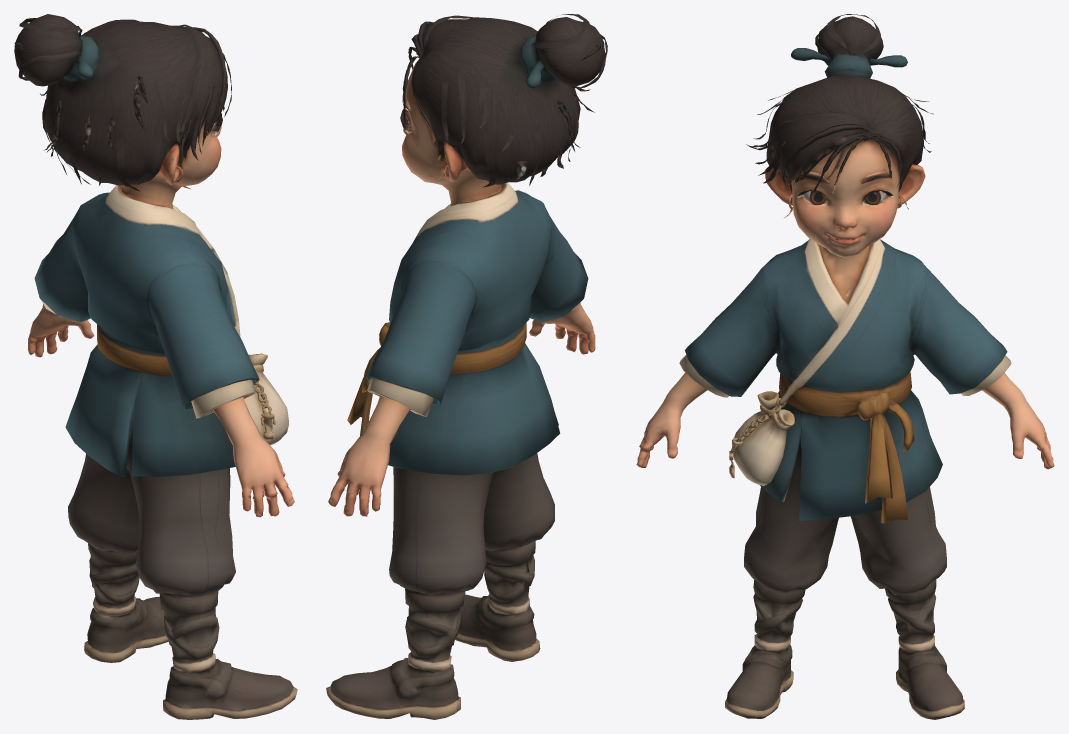
The picture shows the model from 3 angles, left to right: view 1: azimuth 30°, elevation 25°; view 2: azimuth 150°, elevation 25°; view 3: azimuth 270°, elevation 25°; orthographic projection. The views are drawn at different scales.
Visible parts, largest first — view 1: tripo_node_a5d9dff5-2c17-4906-a2e6-f9dac91ec7ec; view 2: tripo_node_a5d9dff5-2c17-4906-a2e6-f9dac91ec7ec; view 3: tripo_node_a5d9dff5-2c17-4906-a2e6-f9dac91ec7ec.
Boxes of the visible parts, x1,y1,x2,y2 form: tripo_node_a5d9dff5-2c17-4906-a2e6-f9dac91ec7ec: (14,14,297,719); tripo_node_a5d9dff5-2c17-4906-a2e6-f9dac91ec7ec: (326,14,607,719); tripo_node_a5d9dff5-2c17-4906-a2e6-f9dac91ec7ec: (636,14,1054,719).
Size of the model in its own units: 0.3535 by 0.998 by 0.6074.
1 material, 1 textured.
